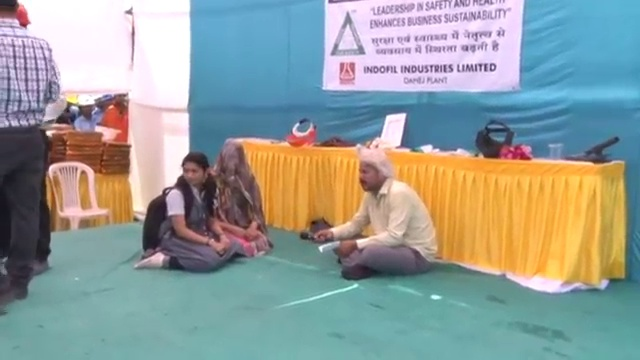helmet: (95, 125, 122, 142), (77, 96, 95, 109)
helmet_off: (349, 145, 394, 198), (216, 144, 251, 191), (175, 152, 208, 195), (0, 0, 18, 19), (114, 93, 127, 108)
helmet_on: (78, 95, 96, 119)
person: (313, 143, 441, 283), (1, 0, 59, 304), (143, 143, 228, 277), (195, 140, 269, 264), (101, 94, 128, 143), (74, 95, 103, 131)
